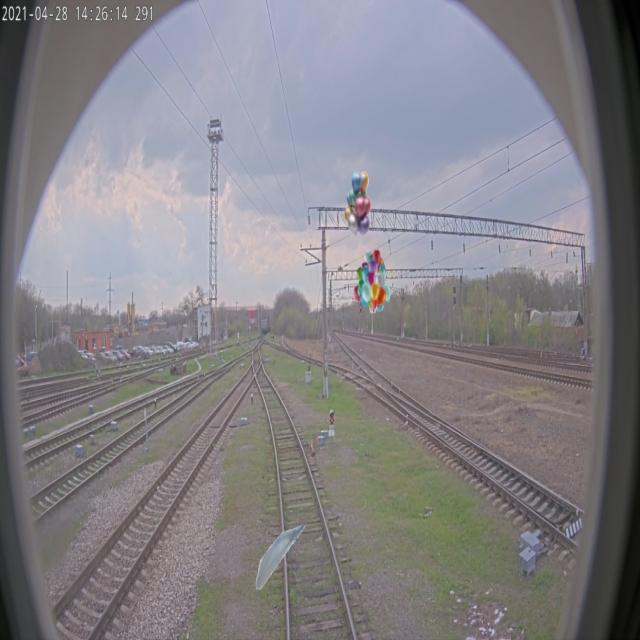balloon: (353, 249, 391, 313), (344, 170, 371, 234)
floating object: (254, 526, 306, 590)
